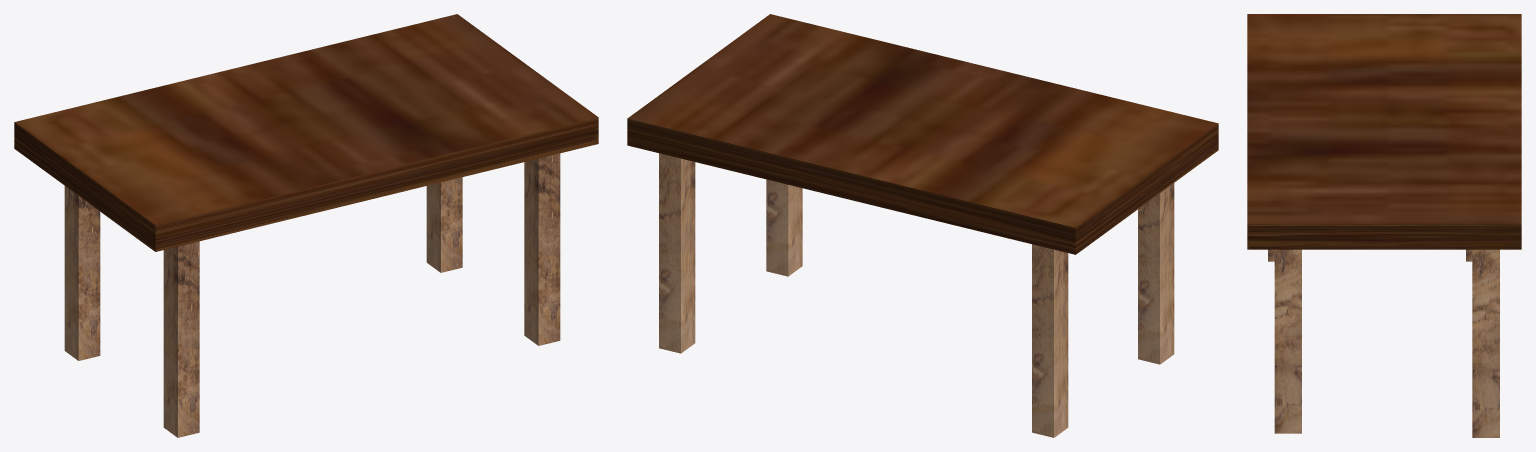
Rendered from Mesa gabriel.glb.
The picture shows the model from 3 angles, left to right: view 1: azimuth 30°, elevation 25°; view 2: azimuth 150°, elevation 25°; view 3: azimuth 270°, elevation 25°; orthographic projection. The views are drawn at different scales.
Visible parts, largest first — view 1: Cube, Cube.003, Cube.002, Cube.004, Cube.001; view 2: Cube, Cube.001, Cube.004, Cube.003, Cube.002; view 3: Cube, Cube.001, Cube.002.
Part boxes in pixels (x1,y1,x2,y2): Cube: (14, 14, 598, 251); Cube.003: (163, 241, 199, 437); Cube.002: (524, 153, 560, 345); Cube.004: (64, 186, 100, 360); Cube.001: (426, 177, 462, 272); Cube: (627, 14, 1218, 254); Cube.001: (659, 153, 695, 353); Cube.004: (1032, 244, 1068, 437); Cube.003: (1138, 183, 1174, 364); Cube.002: (766, 179, 802, 276); Cube: (1247, 14, 1521, 249); Cube.001: (1472, 249, 1499, 437); Cube.002: (1274, 249, 1301, 433).
Bounding box in the file's own units: 10.9 × 5.42 × 6.02.
Materials: 5 (5 with a texture image).
